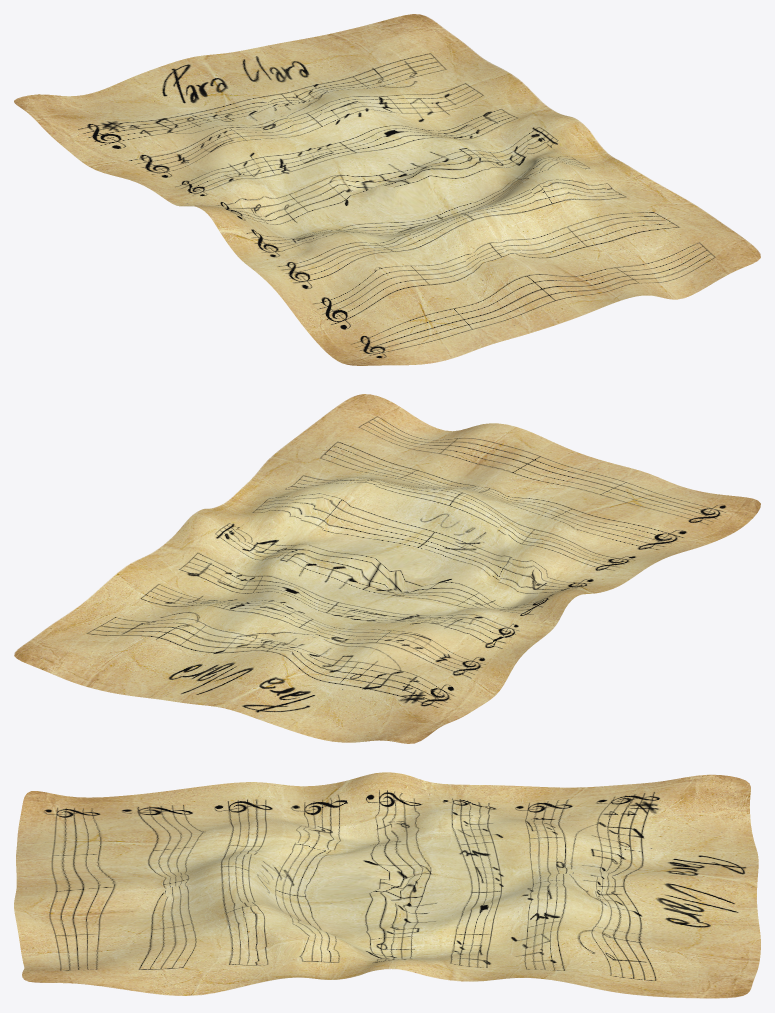
Rendered from Finalpartitura.fbx.
3 views of the same model, one above another, from view 1: azimuth 30°, elevation 25°; view 2: azimuth 150°, elevation 25°; view 3: azimuth 270°, elevation 25° (orthographic). The views are drawn at different scales.
Parts seen in each view (by area): view 1: Plane.001; view 2: Plane.001; view 3: Plane.001.
Boxes of the visible parts, left/top/right/bottom form: Plane.001: left=14, top=14, right=760, bottom=365; Plane.001: left=14, top=394, right=760, bottom=743; Plane.001: left=14, top=772, right=760, bottom=998.
Size of the model in its own units: 199 by 18.13 by 298.
